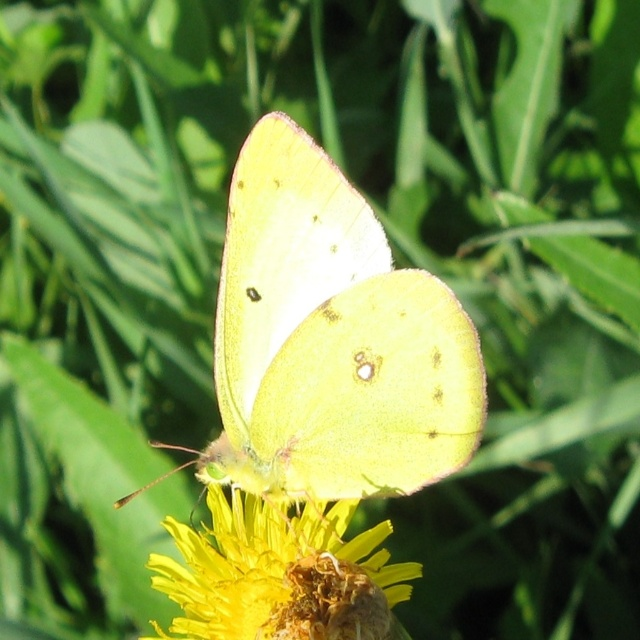Butterfly: (148, 131, 458, 605)
